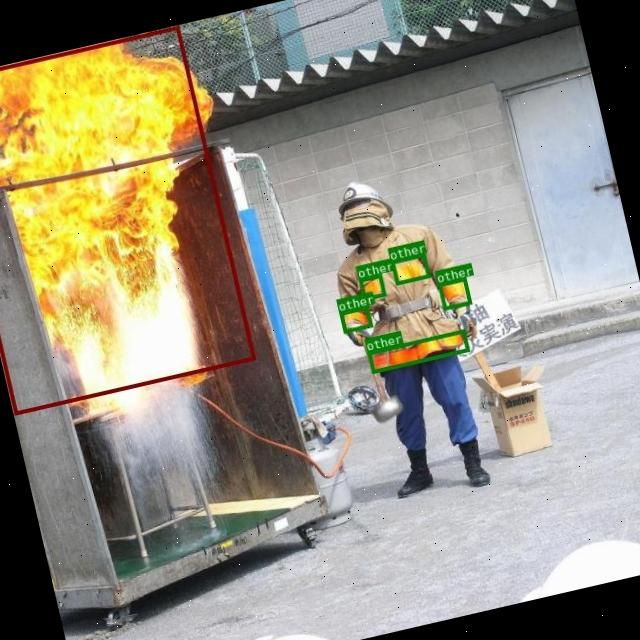fire: (0, 25, 255, 414)
